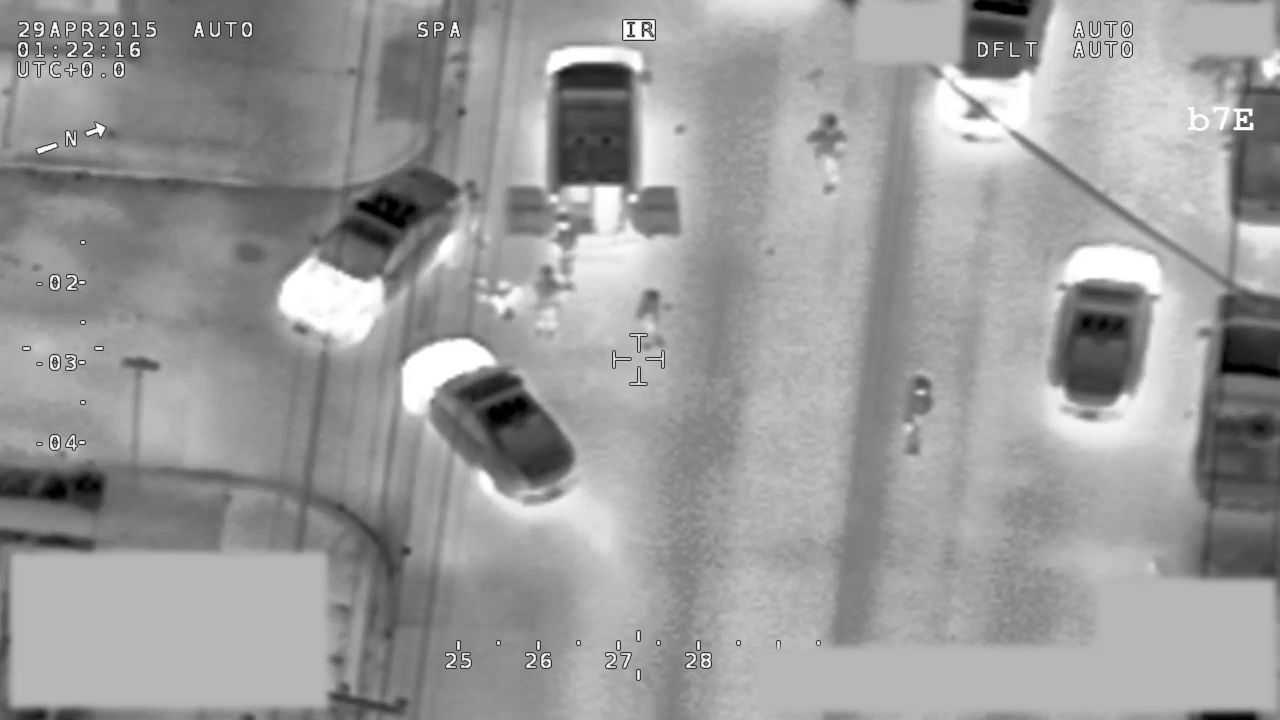vehicle: (276, 160, 471, 349), (504, 43, 683, 242), (399, 333, 587, 510), (1045, 237, 1171, 425), (929, 1, 1061, 138)
